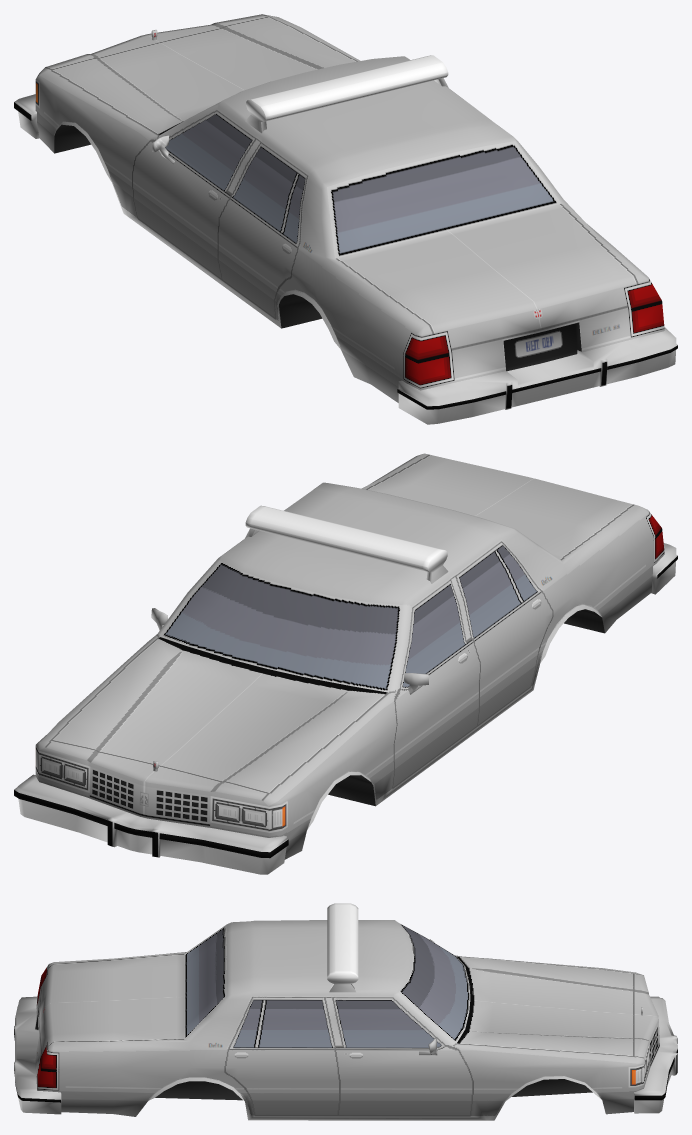
File: 85delta88police.fbx
The picture shows the model from 3 angles, top to bottom: view 1: azimuth 30°, elevation 25°; view 2: azimuth 150°, elevation 25°; view 3: azimuth 270°, elevation 25°; orthographic projection. The views are drawn at different scales.
Visible parts, largest first — view 1: delta88; view 2: delta88; view 3: delta88.
Boxes of the visible parts, x1=… form: delta88: x1=14, y1=14, x2=677, y2=424; delta88: x1=14, y1=453, x2=677, y2=874; delta88: x1=14, y1=903, x2=677, y2=1120.
Size of the model in its own units: 2.1 by 1.25 by 5.56.
